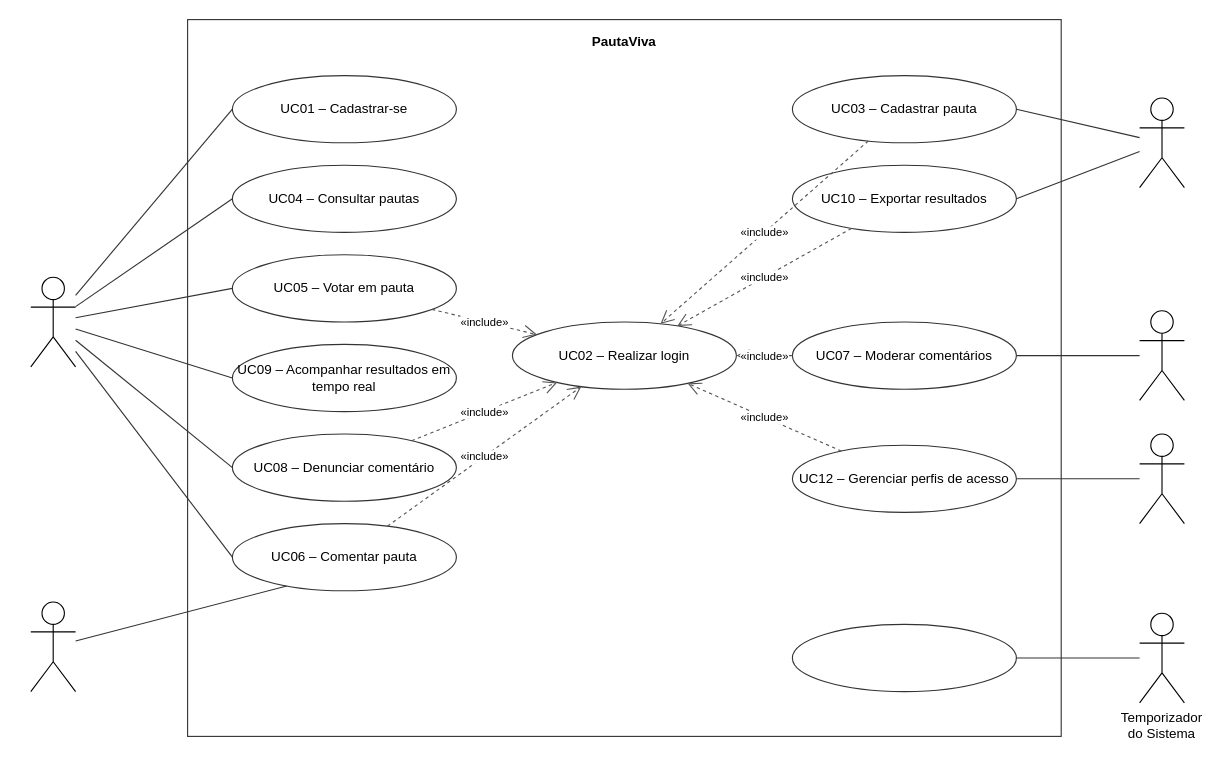
This 1222x767 diagram has some shape labels left out. The centre of each missing label's shape, as x and y in pixels:
"Administrador" belongs at point 1161,478.
"Cidadão" belongs at point 53,321.
"Gestor Público" belongs at point 1161,142.
"Moderador" belongs at point 1161,355.
"Sistema de Moderação Automática" belongs at point 53,646.
"UC11 – Encerrar votação automaticamente" belongs at point 903,657.
